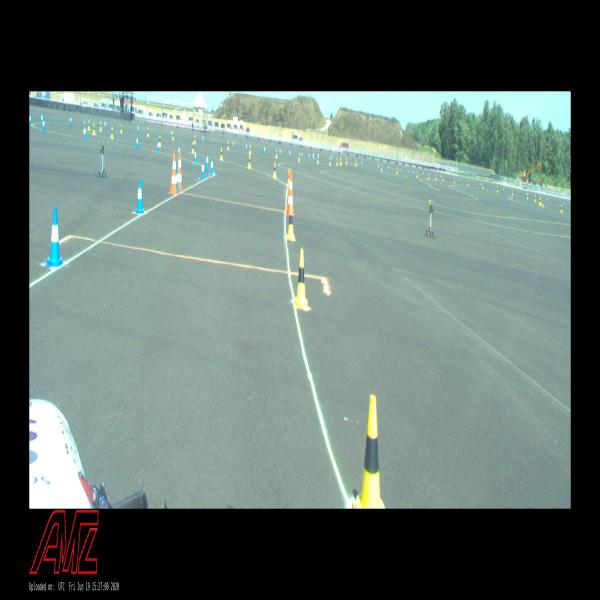blue_cone: (44, 206, 64, 266), (135, 178, 144, 213), (200, 160, 205, 178), (177, 166, 180, 192), (210, 157, 213, 174), (206, 153, 209, 169), (194, 148, 197, 163), (83, 126, 86, 139), (157, 140, 160, 152), (42, 118, 45, 130), (178, 144, 180, 157), (136, 136, 138, 148), (29, 114, 31, 124), (41, 113, 43, 123), (70, 116, 72, 125), (104, 120, 106, 128), (138, 125, 140, 133), (202, 135, 204, 143), (264, 146, 266, 154), (289, 150, 291, 157), (308, 152, 310, 159), (301, 152, 303, 159), (546, 197, 548, 203), (233, 140, 234, 148), (246, 142, 247, 150), (171, 130, 172, 138), (313, 152, 314, 159), (280, 149, 281, 155), (362, 160, 363, 166), (378, 163, 379, 169), (526, 192, 527, 198), (318, 152, 319, 158), (388, 166, 389, 171), (408, 169, 409, 174), (423, 171, 424, 176), (459, 178, 460, 183), (440, 174, 441, 179), (413, 170, 414, 174), (399, 168, 400, 172), (503, 188, 504, 192), (480, 183, 481, 187), (564, 202, 564, 206), (332, 154, 332, 160)
large_orange_cone: (169, 150, 178, 195), (286, 172, 294, 215), (178, 151, 183, 192), (286, 169, 291, 208)
yellow_cone: (353, 395, 385, 508), (294, 250, 308, 308), (286, 205, 294, 239), (273, 162, 276, 178), (287, 169, 290, 185), (248, 154, 251, 168), (220, 148, 223, 160), (83, 121, 86, 131), (120, 124, 123, 132), (93, 123, 95, 135), (111, 126, 113, 138), (160, 135, 162, 147), (192, 142, 194, 153), (88, 120, 90, 130), (100, 121, 102, 130), (298, 153, 300, 161), (228, 142, 230, 150), (276, 150, 278, 158), (194, 135, 196, 143), (147, 128, 149, 136), (317, 156, 319, 164), (172, 132, 174, 140), (329, 157, 331, 164), (336, 158, 338, 165), (542, 199, 544, 206), (396, 168, 398, 174), (355, 160, 357, 166), (416, 171, 418, 177), (435, 175, 437, 180), (250, 145, 251, 153), (442, 176, 444, 180), (535, 195, 536, 202), (561, 205, 562, 212), (381, 164, 382, 171), (341, 158, 342, 165), (539, 198, 540, 205), (340, 157, 341, 164), (497, 186, 498, 192), (346, 158, 347, 164), (428, 174, 429, 180), (527, 193, 528, 199), (467, 181, 468, 186), (512, 190, 513, 195), (454, 178, 455, 182), (482, 184, 483, 188)
